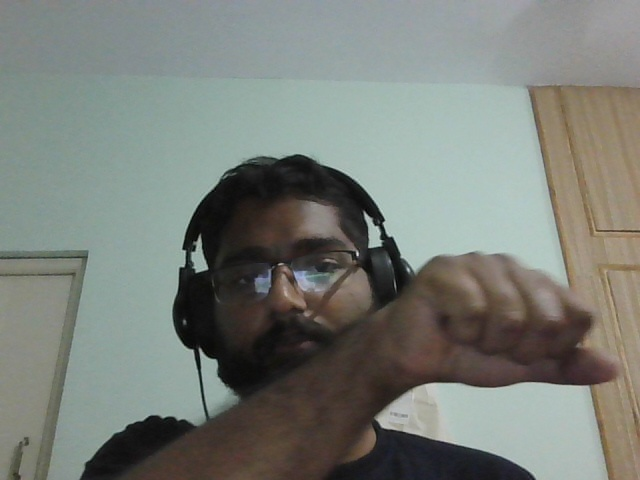Yes: (393, 249, 631, 426)
